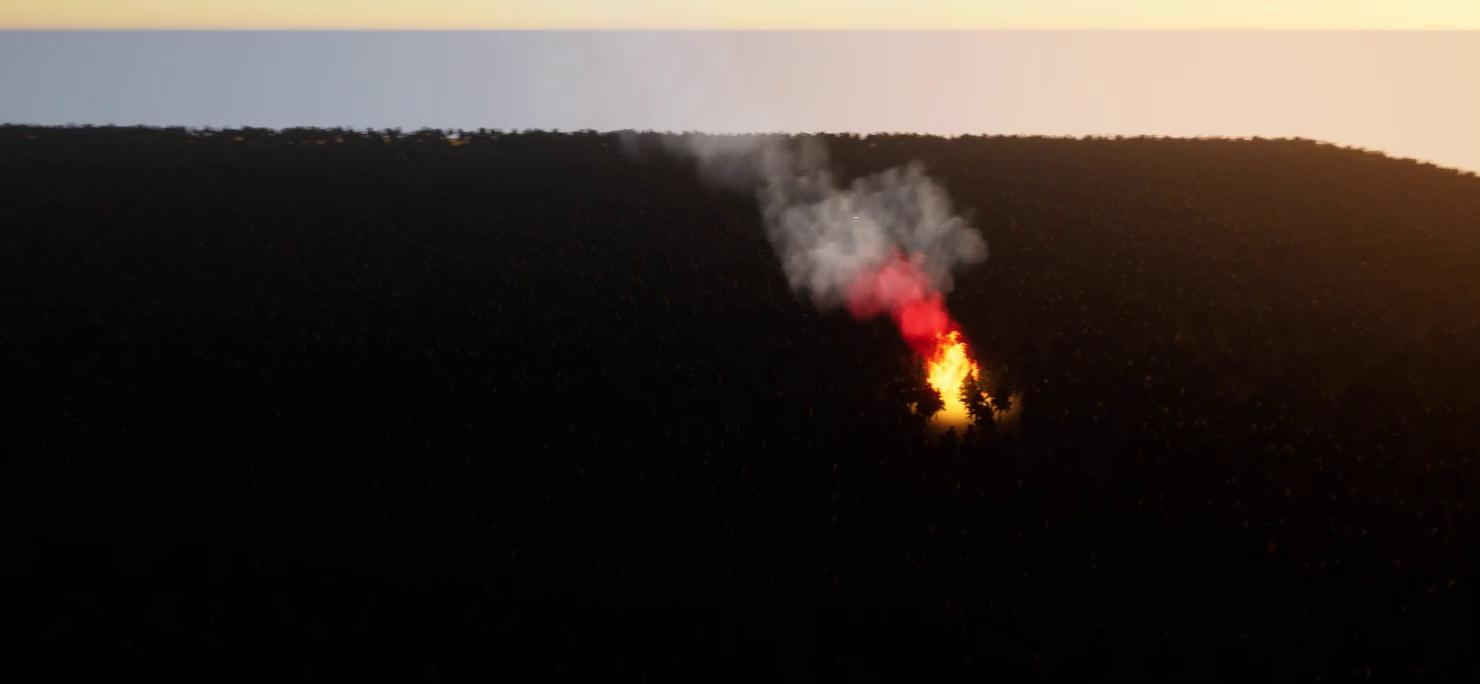fire: (914, 334, 997, 411)
smoke: (668, 122, 993, 343)
